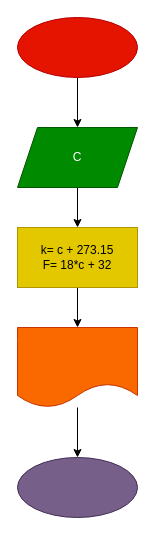
Image size: 155x535. Some labels were removed from this diagram. The shapes that lost their labels are listed below. From the top down, each one's centre as x and y in pixels, then its label:
the point at 77,47: INICIO
the point at 77,367: f,k
